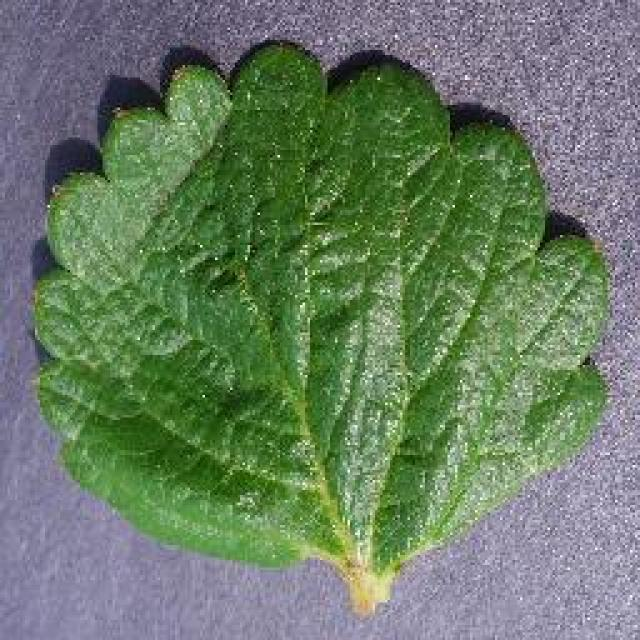Strawberry___healthy: (18, 18, 622, 630)
